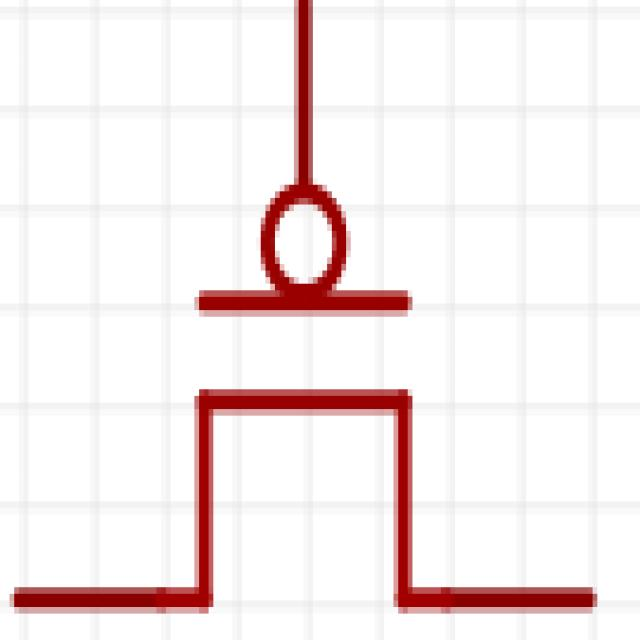pmos: (14, 105, 640, 640)
